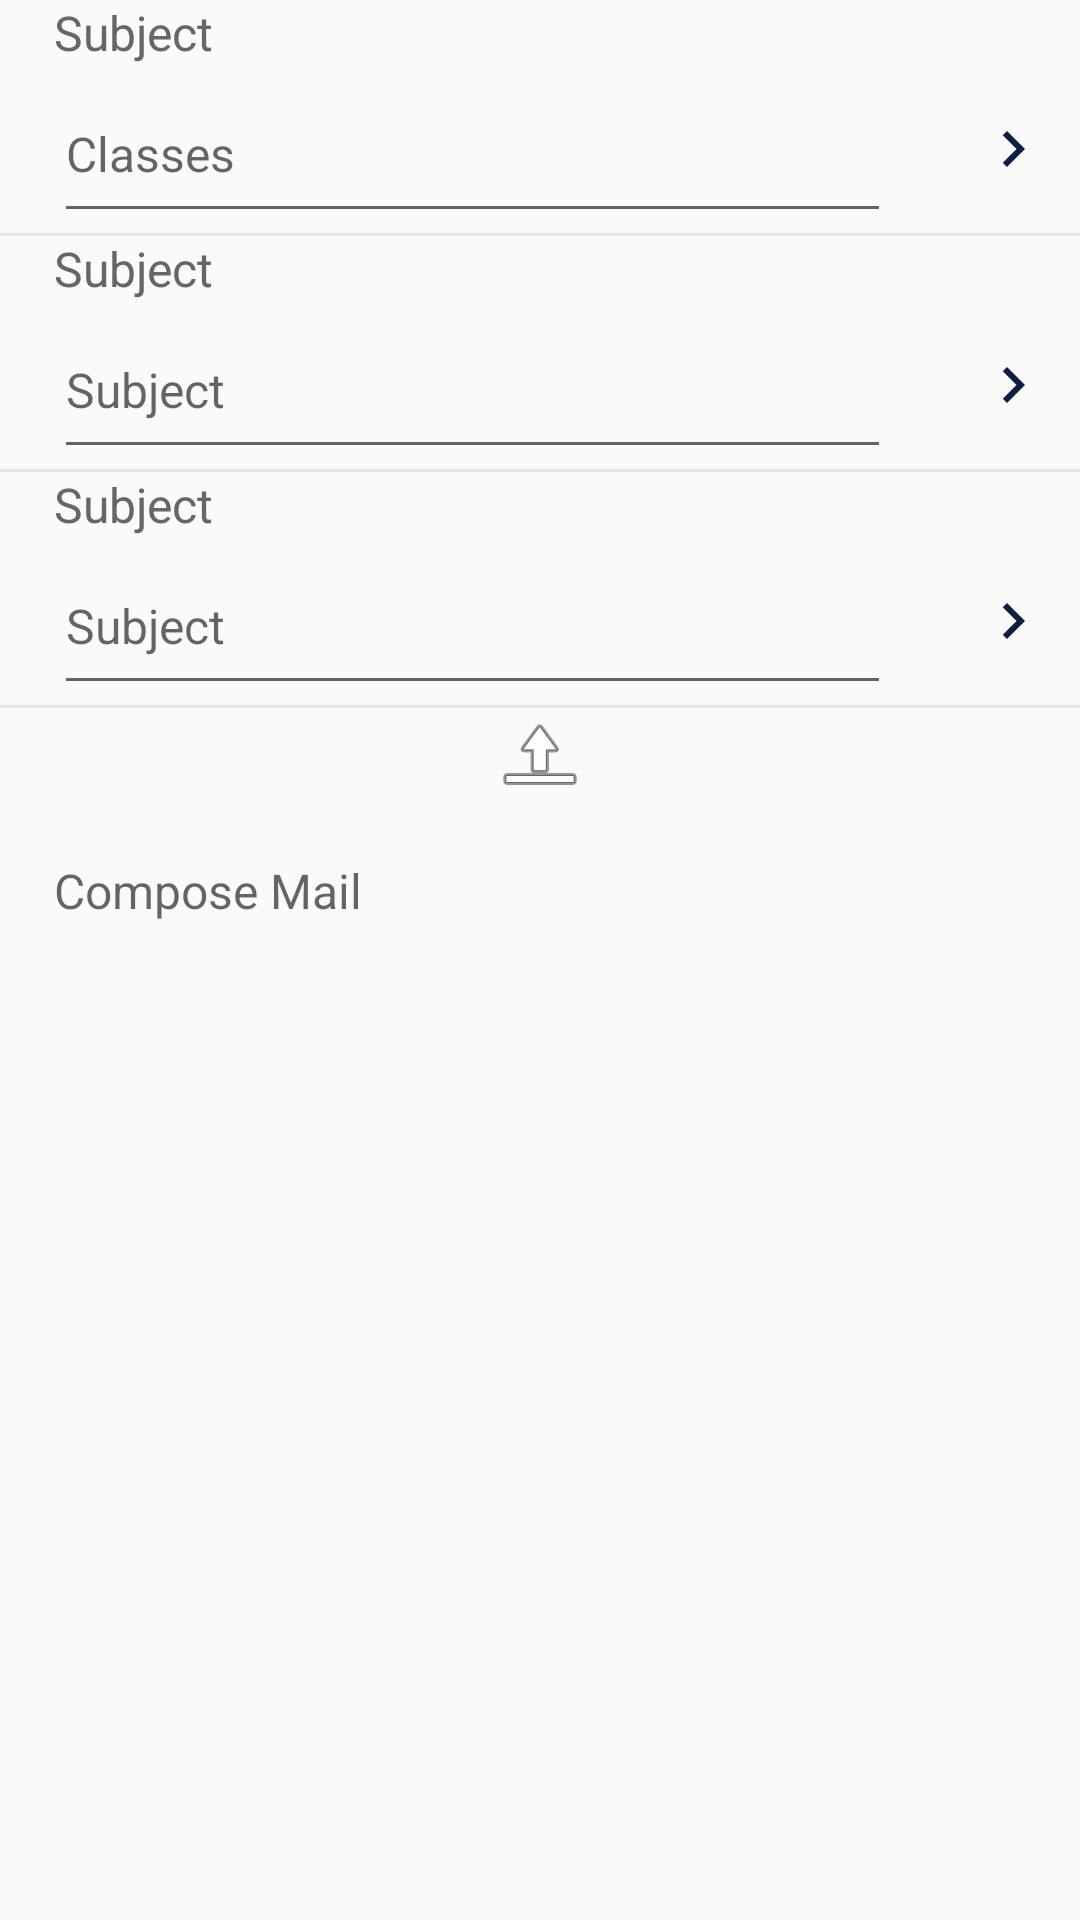

Icon click points for this 1080×1920 phone screenshot, format (x=x, y=y):
navigate next: (x=1014, y=149), (x=1014, y=385), (x=1014, y=621)
upload: (x=540, y=754)
